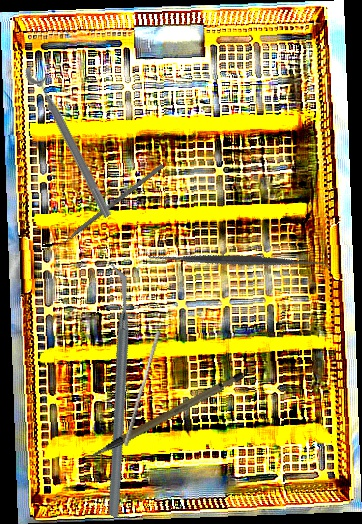Chopper: (11, 261, 220, 520)
Fixation Ring: (22, 57, 125, 221)
Pusher: (47, 163, 165, 256), (123, 329, 162, 448)
Scalpel Handle: (78, 369, 254, 460)
Spatula Surgical: (144, 167, 333, 354)
